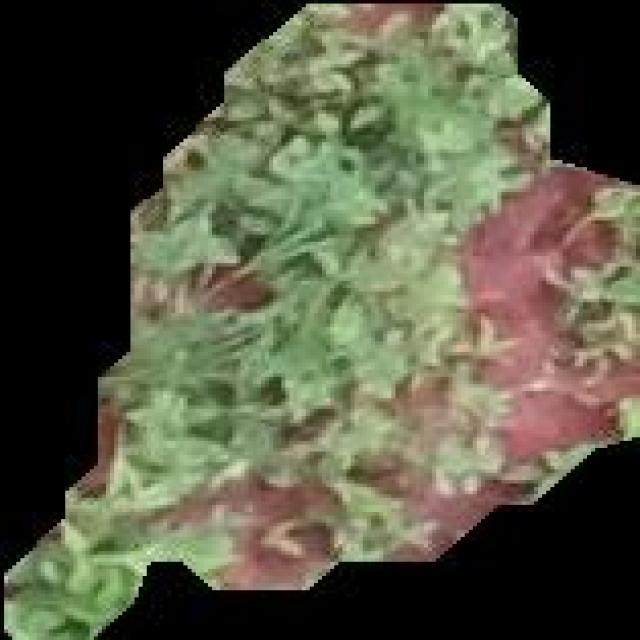Weed: (3, 3, 640, 640)
